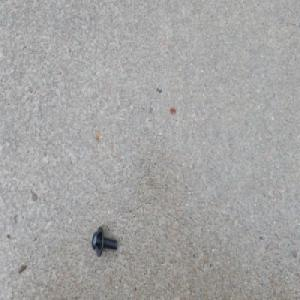BoltWasher: (91, 226, 118, 257)
